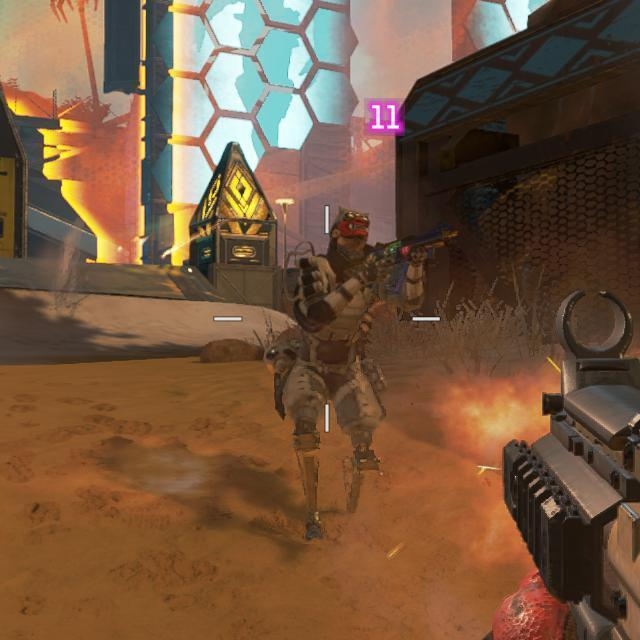avatar: (269, 206, 456, 550)
